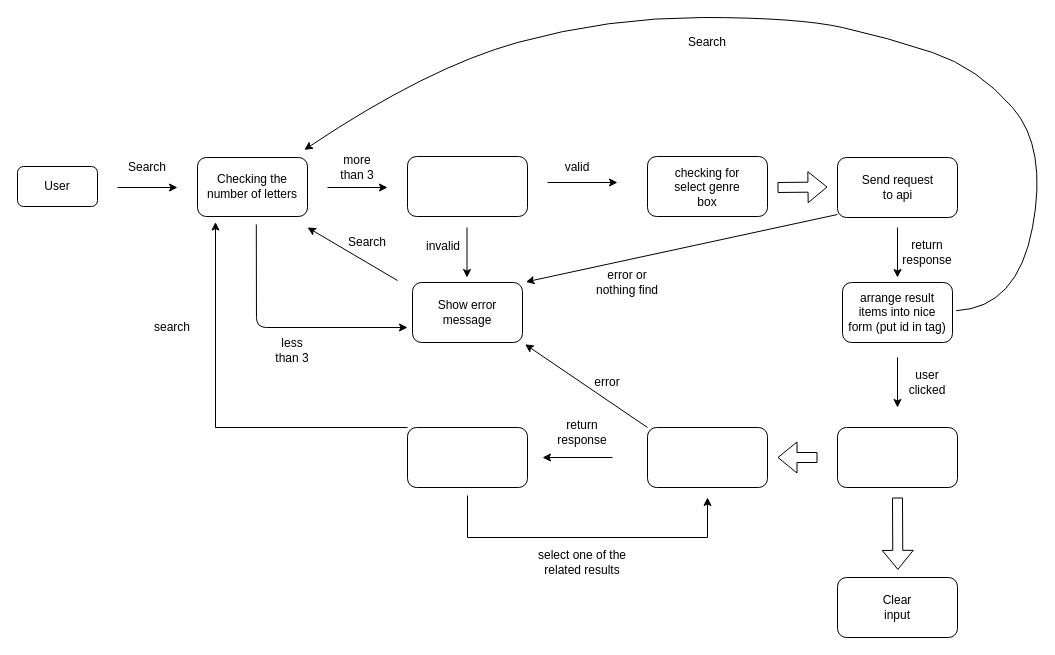
Image size: 1055x655. Some labels were removed from this diagram. Each missing label, with the centre of its shape:
"close result window" belongs at [897,457].
"Get word and validate it" belongs at [467,186].
"put result into nice form and also arrange related results" belongs at [467,457].
"Send request with id to api" belongs at [707,457].
